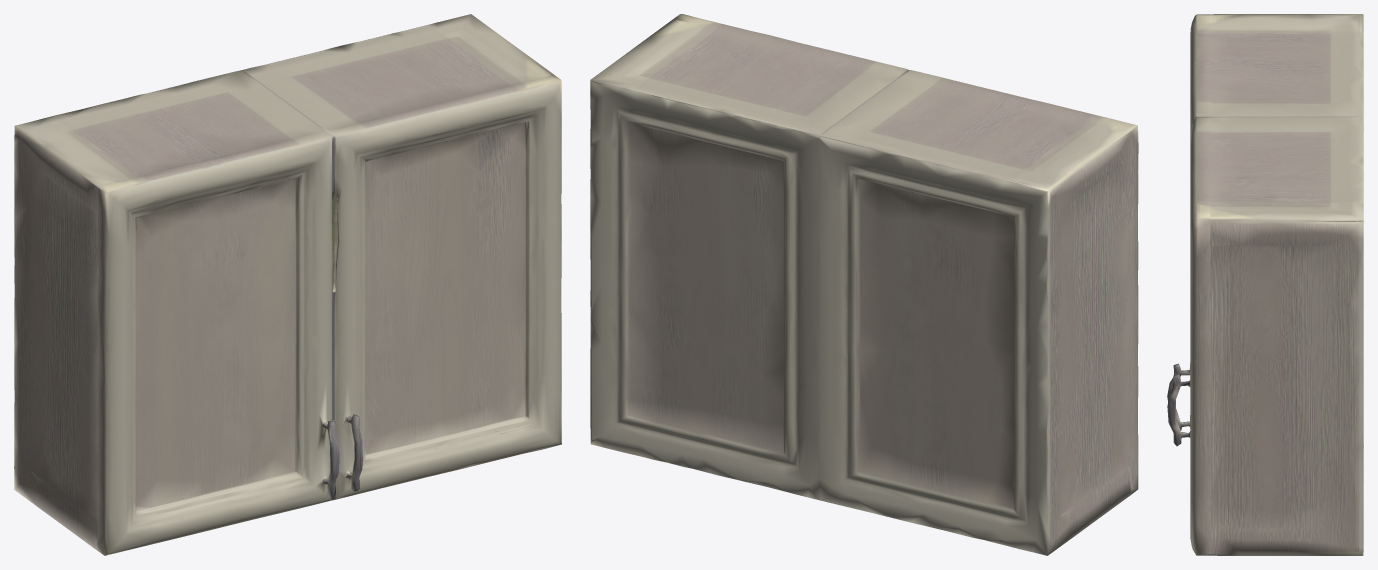
The picture shows the model from 3 angles, left to right: view 1: azimuth 30°, elevation 25°; view 2: azimuth 150°, elevation 25°; view 3: azimuth 270°, elevation 25°; orthographic projection. The views are drawn at different scales.
Visible parts, largest first — view 1: Mesh_0; view 2: Mesh_0; view 3: Mesh_0.
Part boxes in pixels (box(x1,y1,x2,y2)): Mesh_0: box(14, 14, 561, 555); Mesh_0: box(590, 14, 1138, 555); Mesh_0: box(1167, 14, 1363, 555).
Bounding box in the file's own units: 1.91 × 1.46 × 0.7715.
1 material, 1 textured.
